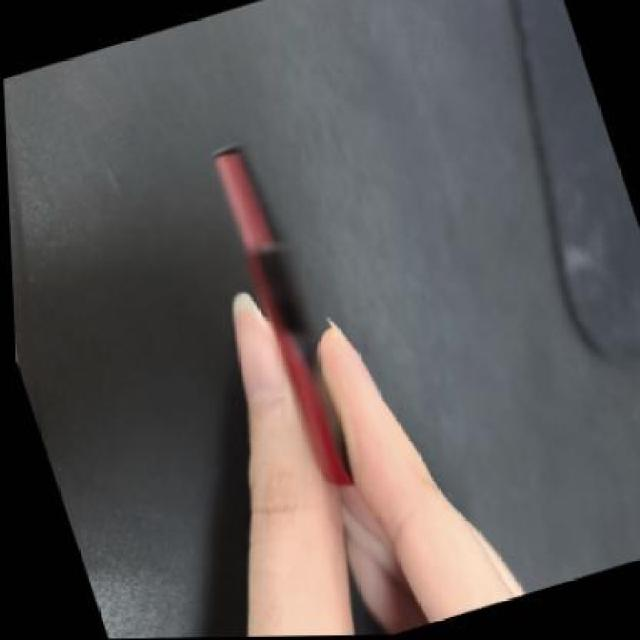Flashdisk: (202, 135, 362, 498)
